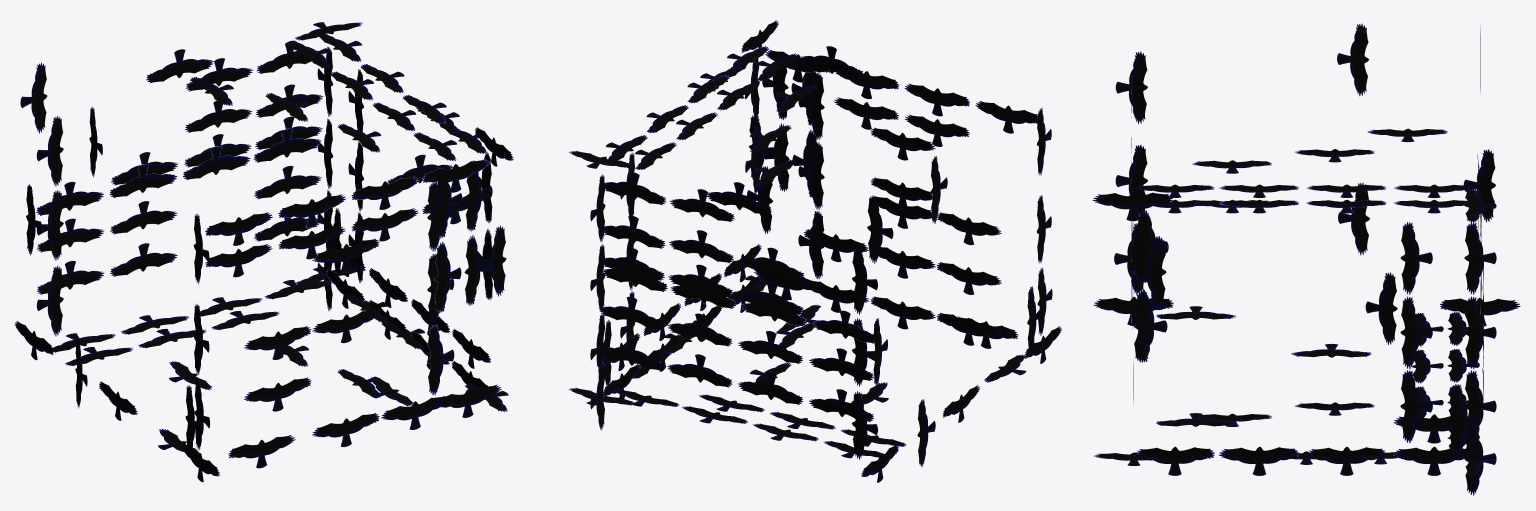
The model's file is asset.glb.
The picture shows the model from 3 angles, left to right: view 1: azimuth 30°, elevation 25°; view 2: azimuth 150°, elevation 25°; view 3: azimuth 270°, elevation 25°; orthographic projection. The views are drawn at different scales.
Visible parts, largest first — view 1: vogelstickerrichtig.015, vogelstickerrichtig.132, vogelstickerrichtig.134, vogelstickerrichtig.232, vogelstickerrichtig.009, vogelstickerrichtig.014, vogelstickerrichtig.043, vogelstickerrichtig.113, vogelstickerrichtig.237, vogelstickerrichtig.236, vogelstickerrichtig.111, vogelstickerrichtig.146 (+36 smaller); view 2: vogelstickerrichtig.225, vogelstickerrichtig.210, vogelstickerrichtig.224, vogelstickerrichtig.212, vogelstickerrichtig.213, vogelstickerrichtig.218, vogelstickerrichtig.214, vogelstickerrichtig.217, vogelstickerrichtig.219, vogelstickerrichtig.220, vogelstickerrichtig.112, vogelstickerrichtig.215 (+37 smaller); view 3: vogelstickerrichtig.007, vogelstickerrichtig.011, vogelstickerrichtig.038, vogelstickerrichtig.039, vogelstickerrichtig.040, vogelstickerrichtig.135, vogelstickerrichtig.032, vogelstickerrichtig.142, vogelstickerrichtig.143, vogelstickerrichtig.019, vogelstickerrichtig.012, vogelstickerrichtig.034 (+32 smaller).
Part boxes in pixels (bbox=[...]): vogelstickerrichtig.015: bbox=[434, 384, 501, 417]; vogelstickerrichtig.132: bbox=[36, 265, 63, 336]; vogelstickerrichtig.134: bbox=[36, 116, 63, 186]; vogelstickerrichtig.232: bbox=[244, 377, 311, 411]; vogelstickerrichtig.009: bbox=[146, 49, 213, 83]; vogelstickerrichtig.014: bbox=[228, 435, 295, 468]; vogelstickerrichtig.043: bbox=[427, 325, 454, 394]; vogelstickerrichtig.113: bbox=[351, 176, 418, 209]; vogelstickerrichtig.237: bbox=[312, 309, 379, 343]; vogelstickerrichtig.236: bbox=[244, 326, 311, 359]; vogelstickerrichtig.111: bbox=[205, 212, 272, 245]; vogelstickerrichtig.146: bbox=[183, 146, 250, 179]; vogelstickerrichtig.225: bbox=[599, 337, 663, 370]; vogelstickerrichtig.210: bbox=[669, 230, 733, 263]; vogelstickerrichtig.224: bbox=[667, 354, 732, 387]; vogelstickerrichtig.212: bbox=[600, 215, 665, 248]; vogelstickerrichtig.213: bbox=[599, 296, 663, 329]; vogelstickerrichtig.218: bbox=[668, 264, 733, 297]; vogelstickerrichtig.214: bbox=[667, 313, 732, 346]; vogelstickerrichtig.217: bbox=[739, 282, 803, 315]; vogelstickerrichtig.219: bbox=[600, 247, 664, 280]; vogelstickerrichtig.220: bbox=[601, 172, 666, 205]; vogelstickerrichtig.112: bbox=[904, 83, 969, 116]; vogelstickerrichtig.215: bbox=[738, 331, 802, 363]; vogelstickerrichtig.007: bbox=[1464, 296, 1496, 369]; vogelstickerrichtig.011: bbox=[1092, 192, 1172, 221]; vogelstickerrichtig.038: bbox=[1400, 370, 1432, 442]; vogelstickerrichtig.039: bbox=[1400, 222, 1432, 294]; vogelstickerrichtig.040: bbox=[1400, 296, 1432, 369]; vogelstickerrichtig.135: bbox=[1448, 383, 1480, 456]; vogelstickerrichtig.032: bbox=[1337, 23, 1369, 96]; vogelstickerrichtig.142: bbox=[1135, 210, 1167, 282]; vogelstickerrichtig.143: bbox=[1133, 289, 1165, 362]; vogelstickerrichtig.019: bbox=[1115, 51, 1147, 124]; vogelstickerrichtig.012: bbox=[1464, 222, 1496, 294]; vogelstickerrichtig.034: bbox=[1365, 272, 1397, 344].
Bounding box in the file's own units: 11.69 × 10.43 × 12.38.
1 material, 1 textured.
